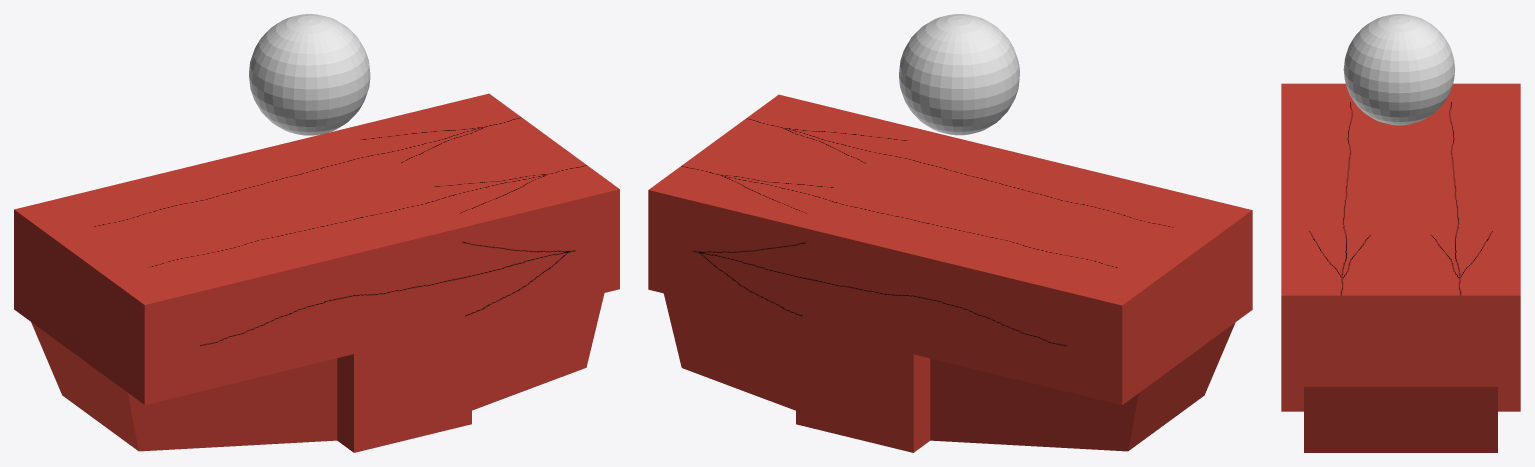
Rendered from basic-combine-body.glb.
3 views of the same model, side by side, from view 1: azimuth 30°, elevation 25°; view 2: azimuth 150°, elevation 25°; view 3: azimuth 270°, elevation 25° (orthographic). The views are drawn at different scales.
Visible parts, largest first — view 1: Cube, Sphere; view 2: Cube, Sphere; view 3: Cube, Sphere.
Boxes of the visible parts, x1,y1,x2,y2 form: Cube: (14, 93, 619, 452); Sphere: (249, 14, 370, 135); Cube: (648, 94, 1252, 452); Sphere: (899, 14, 1019, 135); Cube: (1281, 83, 1520, 452); Sphere: (1343, 14, 1455, 125).
Size of the model in its own units: 9 by 6.9 by 4.29.
Materials: 1 (1 with a texture image).
